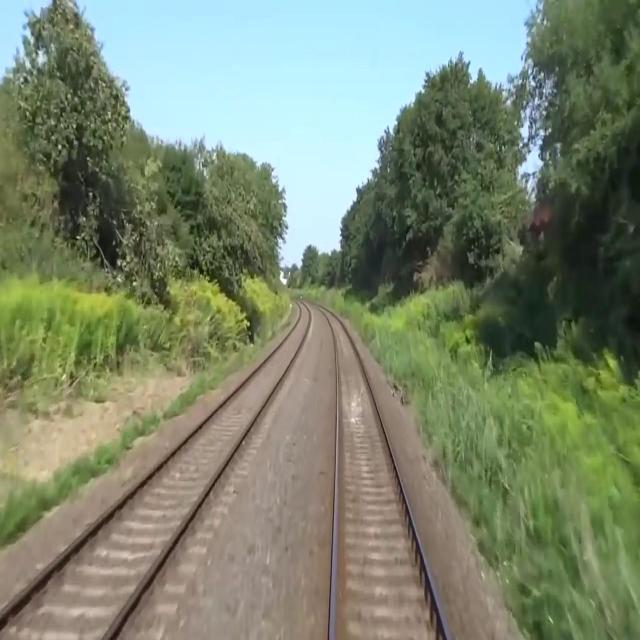rail-track: (0, 303, 308, 639), (323, 310, 447, 639)
